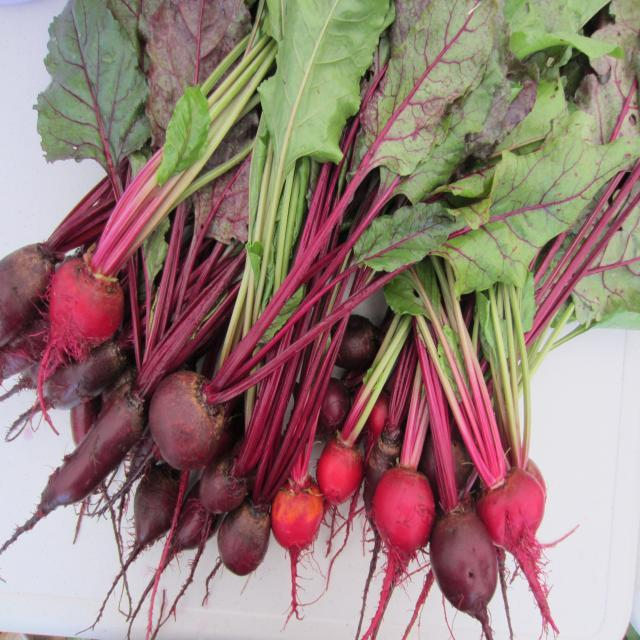beet: (51, 260, 127, 370), (432, 509, 506, 618), (155, 371, 223, 465), (377, 469, 441, 565), (480, 474, 546, 546), (280, 482, 328, 553), (221, 503, 268, 569), (324, 424, 361, 504), (197, 473, 239, 505)
